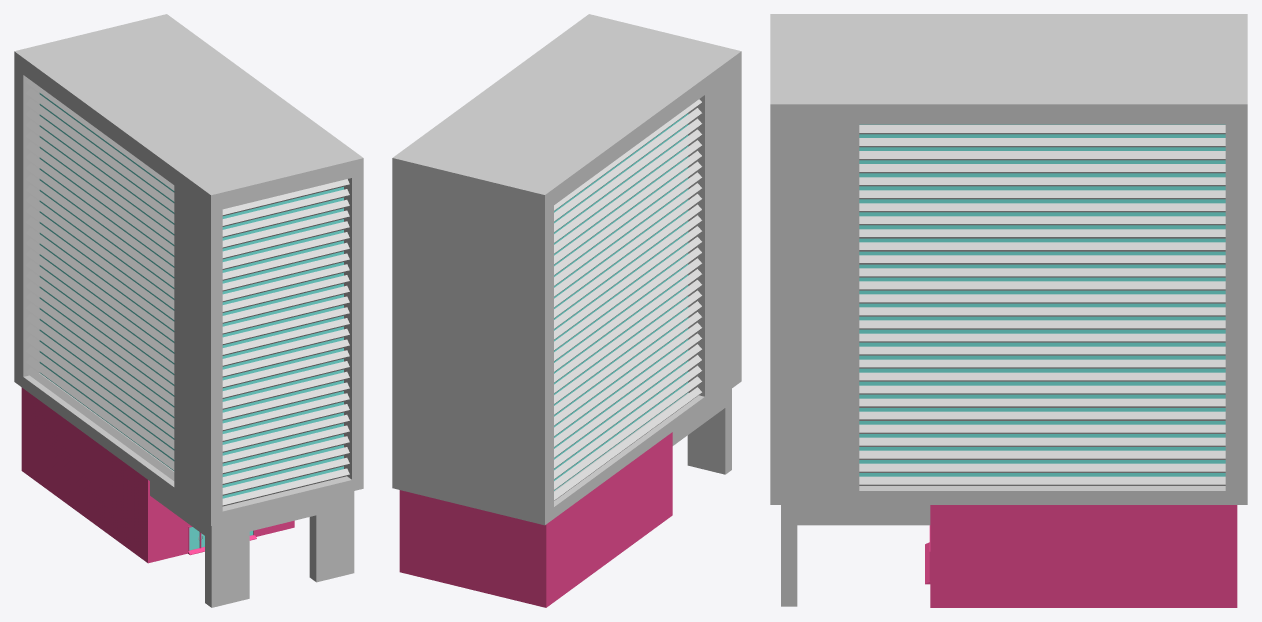
The model's file is Building1.fbx.
3 views of the same model, side by side, from view 1: azimuth 30°, elevation 25°; view 2: azimuth 150°, elevation 25°; view 3: azimuth 270°, elevation 25° (orthographic). The views are drawn at different scales.
Visible parts, largest first — view 1: Ediicio 1; view 2: Ediicio 1; view 3: Ediicio 1.
Boxes of the visible parts, x1,y1,x2,y2 form: Ediicio 1: [14, 14, 363, 607]; Ediicio 1: [392, 14, 741, 607]; Ediicio 1: [770, 14, 1247, 607].
Bounding box in the file's own units: 594 × 1550 × 1326.
